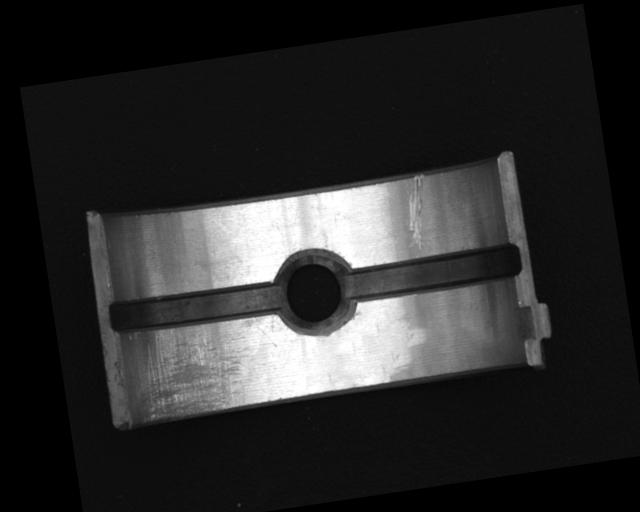gap: (342, 237, 524, 305), (105, 276, 281, 339)
hole: (270, 246, 361, 340)
nick: (398, 173, 435, 251)
scratch: (126, 318, 260, 426)
